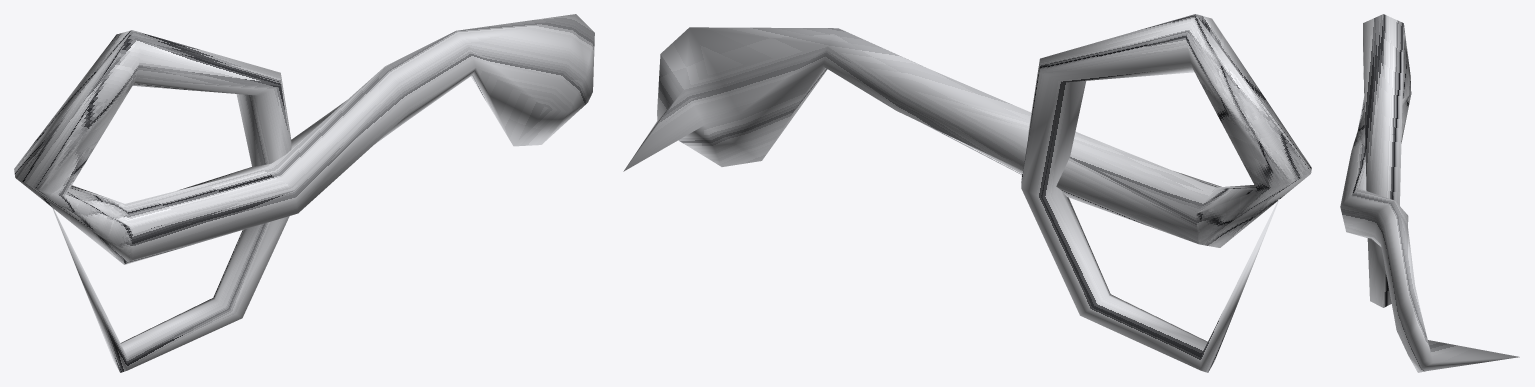
Rendered from snake_000079.obj.
3 views of the same model, side by side, from view 1: azimuth 30°, elevation 25°; view 2: azimuth 150°, elevation 25°; view 3: azimuth 270°, elevation 25° (orthographic). The views are drawn at different scales.
Visible parts, largest first — view 1: Cylinder; view 2: Cylinder; view 3: Cylinder.
Boxes of the visible parts, x1=… form: Cylinder: x1=14, y1=14, x2=594, y2=372; Cylinder: x1=623, y1=14, x2=1311, y2=372; Cylinder: x1=1340, y1=14, x2=1519, y2=372.
Size of the model in its own units: 4.51 by 2.44 by 1.46.
